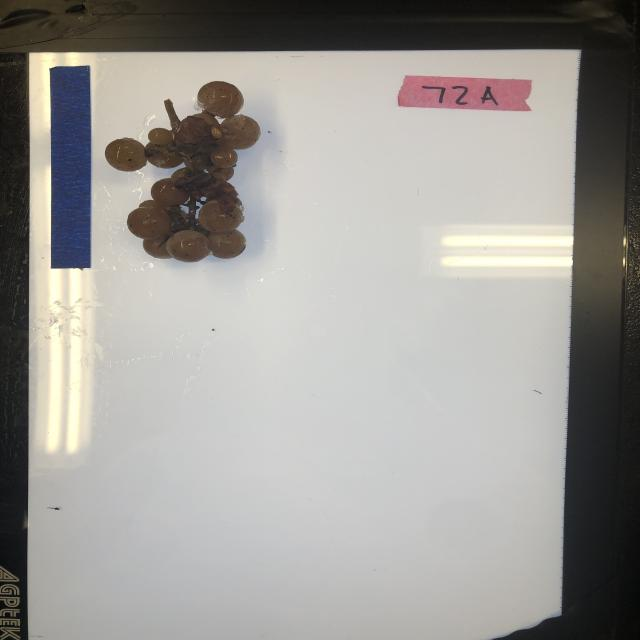grape_cluster: (106, 80, 263, 262)
index: (397, 74, 535, 113)
measure_label: (48, 63, 92, 270)
